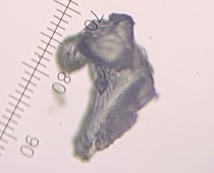microplastic: (54, 10, 162, 166)
